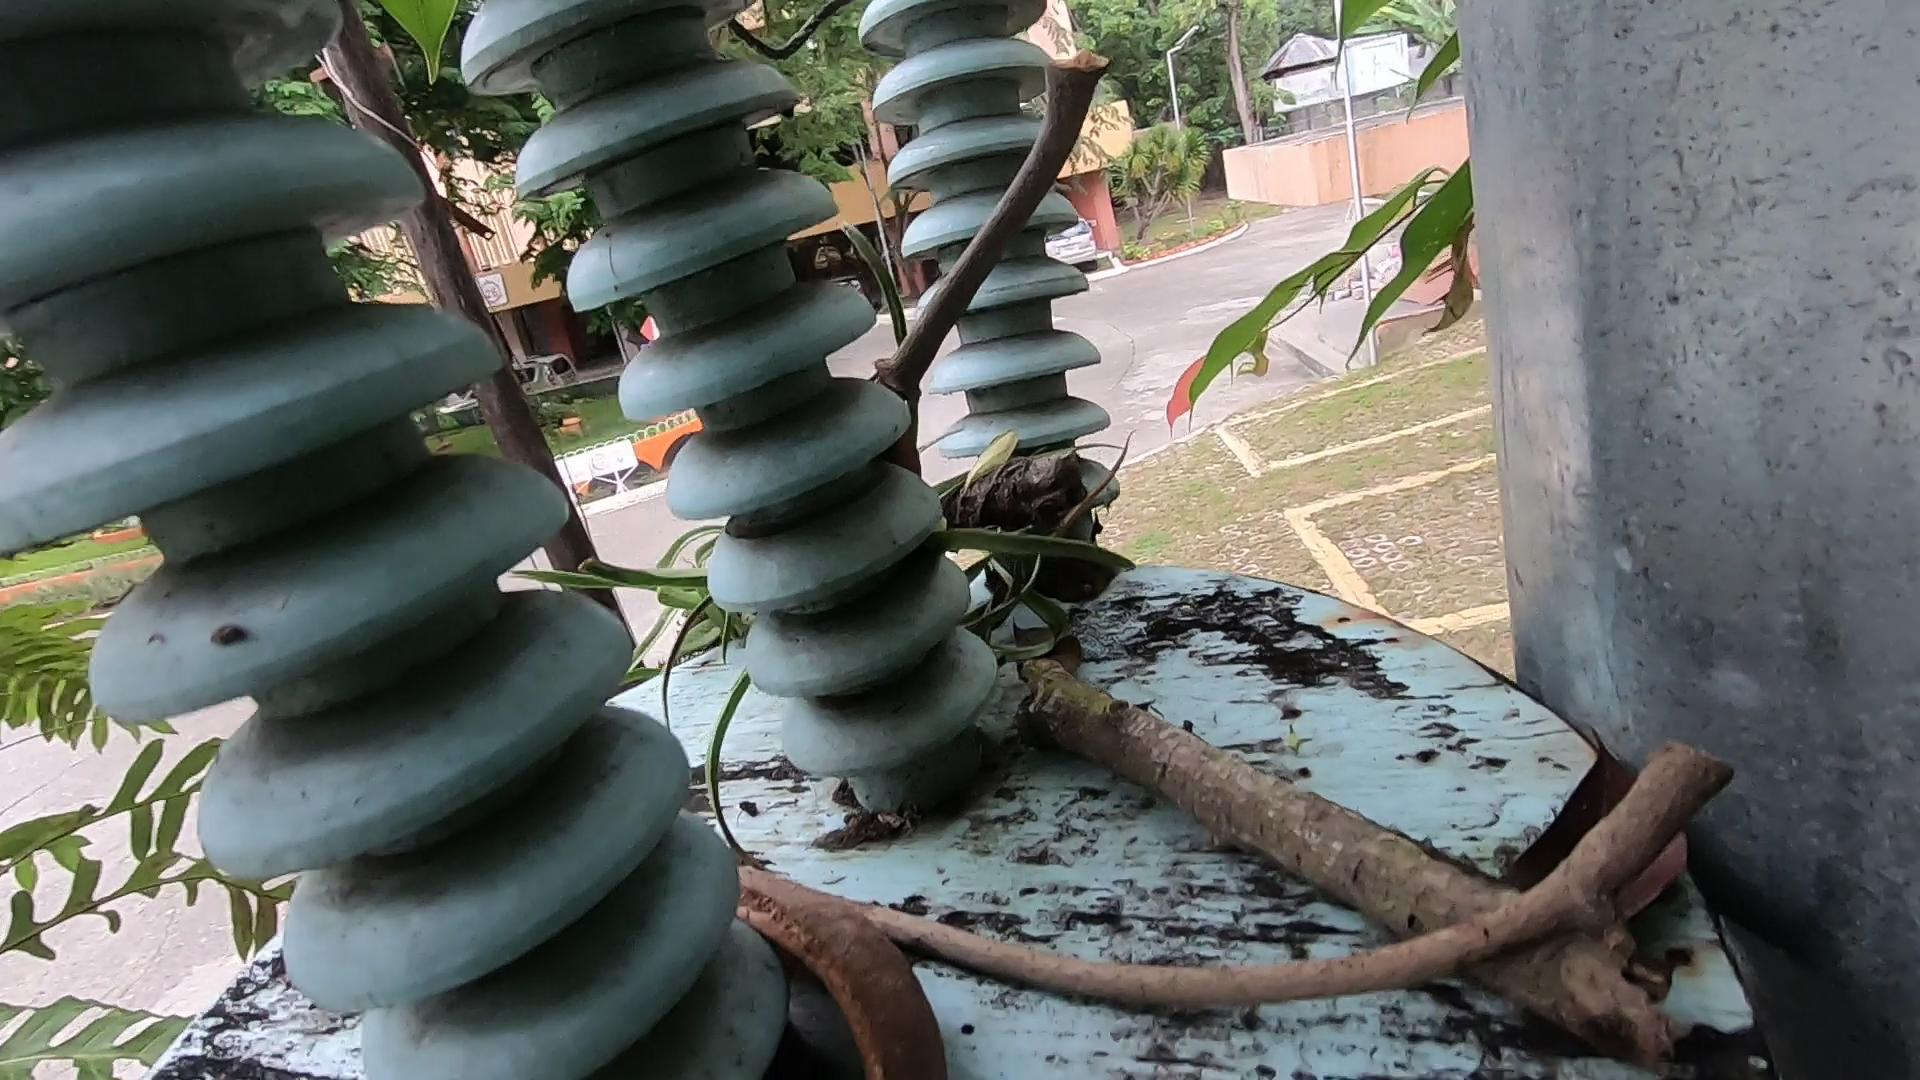branch with leaves: (884, 425, 1712, 1021)
mahogany fruit: (723, 843, 922, 1058)
tree branch: (796, 711, 1782, 1051), (901, 3, 1143, 430)
